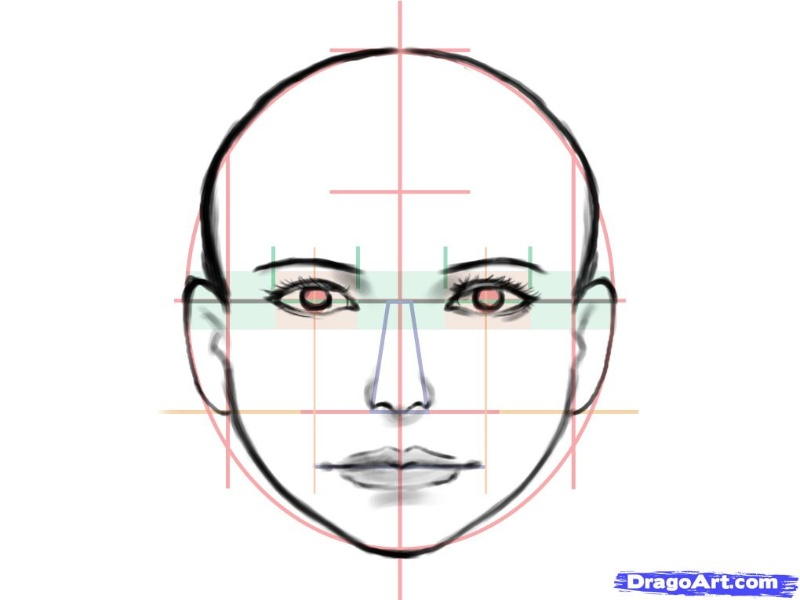face: (232, 147, 577, 514)
